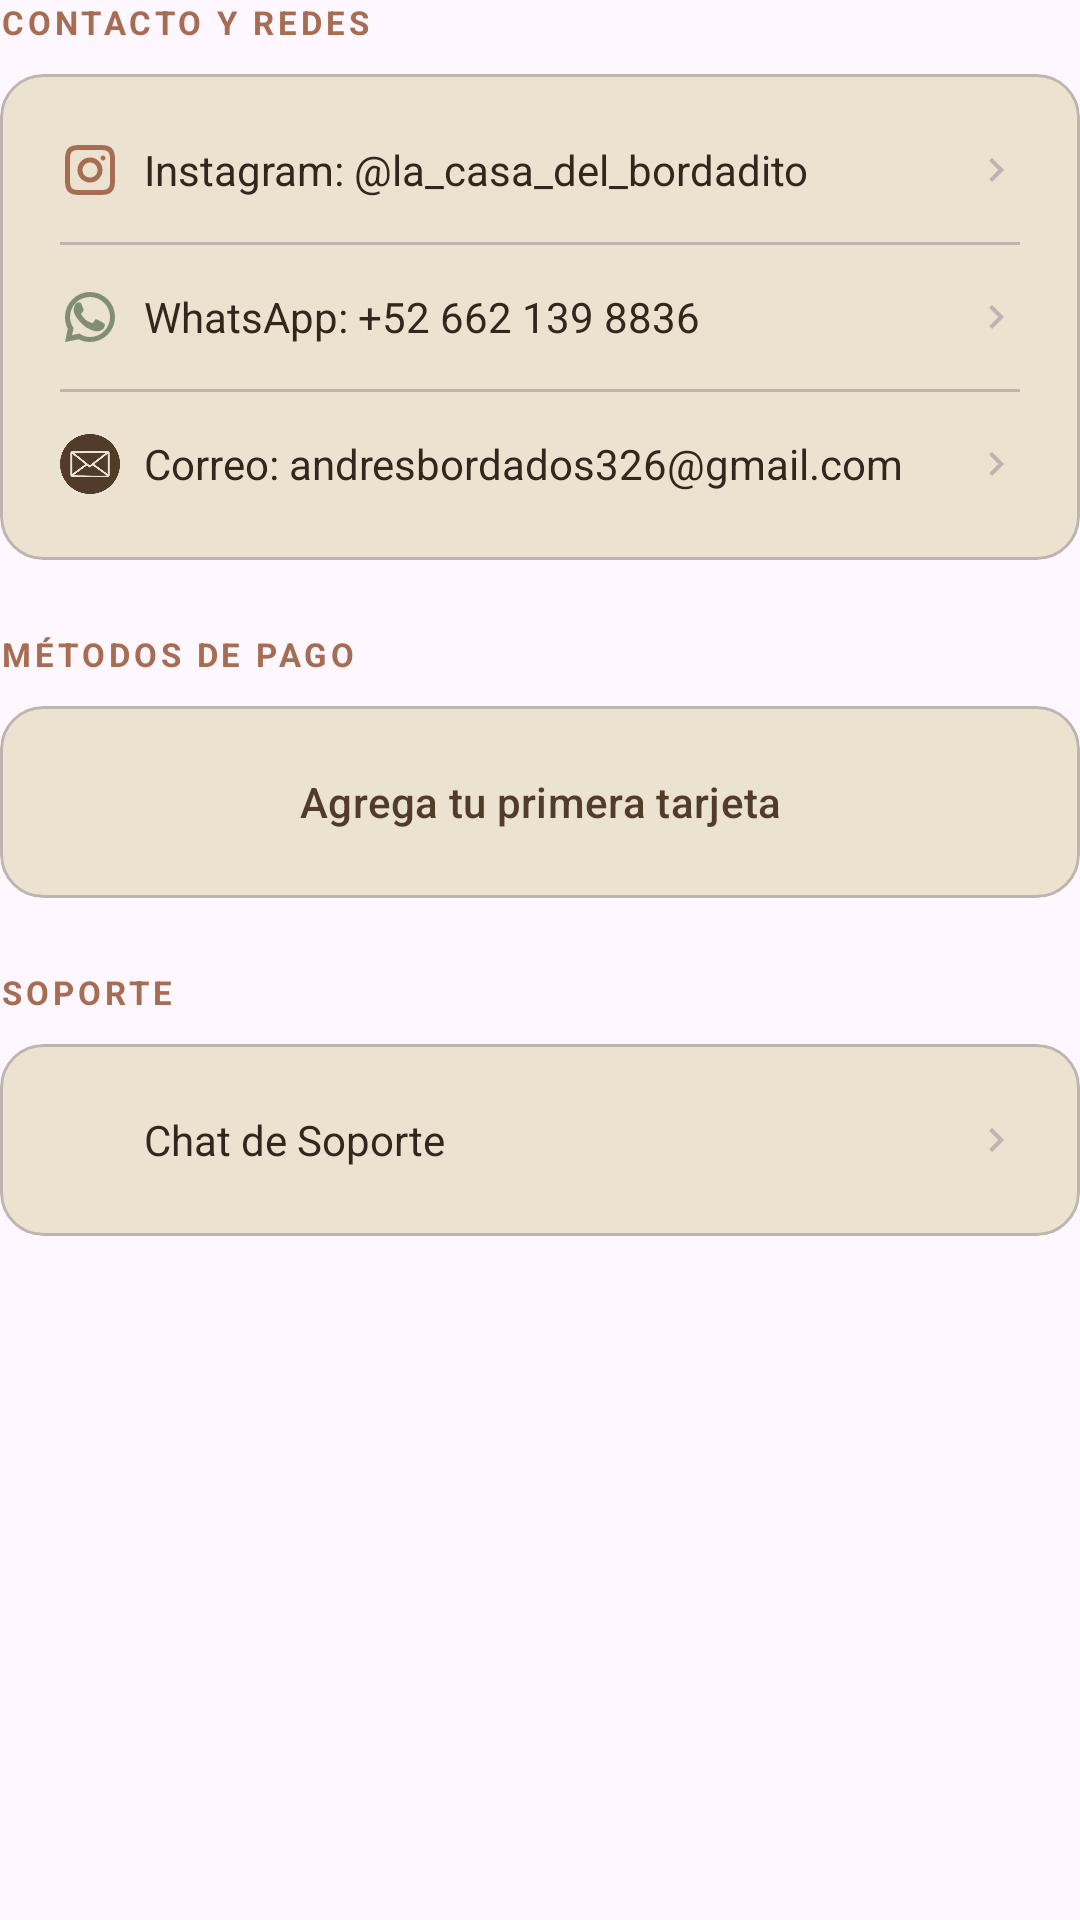

Screen size 1080 x 1920. Icon name, then its box in pixels as (x1, y1, x2, y2):
email: (60, 434, 120, 494)
next: (989, 158, 1004, 182), (989, 305, 1004, 329), (989, 452, 1004, 476), (989, 1128, 1004, 1152)
